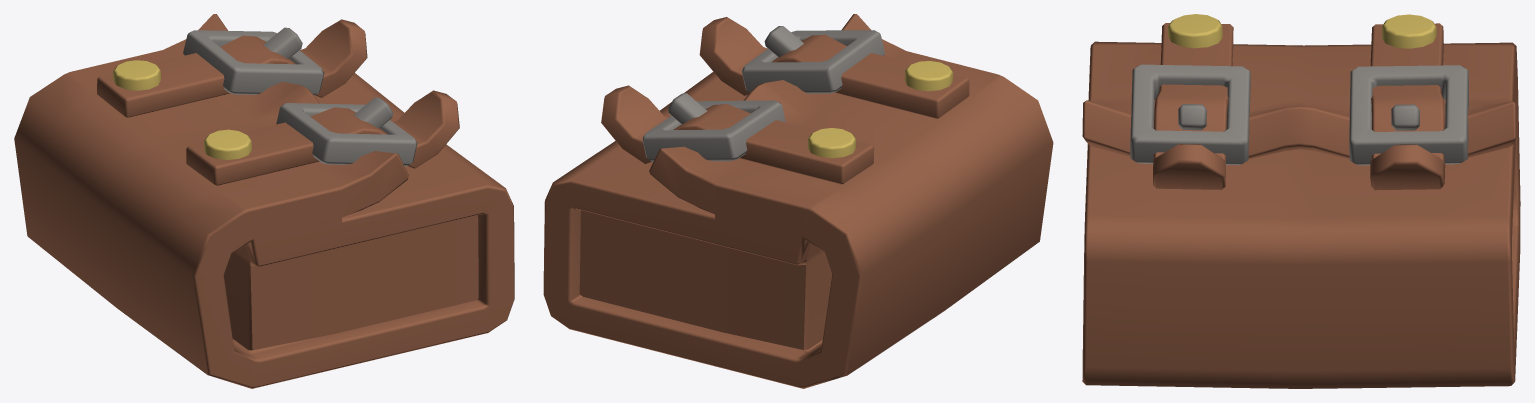
File: Admirals_Bag_Mesh.fbx
The picture shows the model from 3 angles, left to right: view 1: azimuth 30°, elevation 25°; view 2: azimuth 150°, elevation 25°; view 3: azimuth 270°, elevation 25°; orthographic projection. The views are drawn at different scales.
Visible parts, largest first — view 1: Admirals_Bag_Mesh; view 2: Admirals_Bag_Mesh; view 3: Admirals_Bag_Mesh.
Part boxes in pixels (box(x1,y1,x2,y2)): Admirals_Bag_Mesh: box(14, 14, 514, 388); Admirals_Bag_Mesh: box(543, 14, 1053, 388); Admirals_Bag_Mesh: box(1082, 14, 1520, 388).
Bounding box in the file's own units: 17.09 × 10.97 × 17.51.
